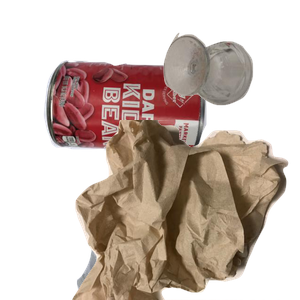glass: (161, 30, 300, 128)
metal: (41, 58, 240, 207)
plastic: (74, 156, 280, 300)
trash: (70, 120, 300, 300)
